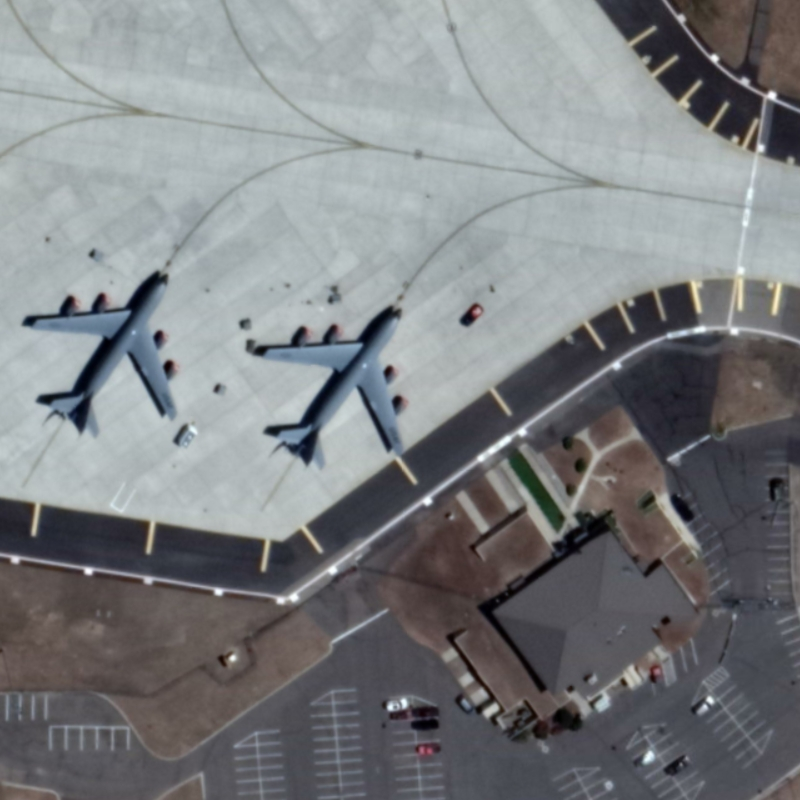A14: (250, 291, 421, 475), (20, 263, 189, 443)
